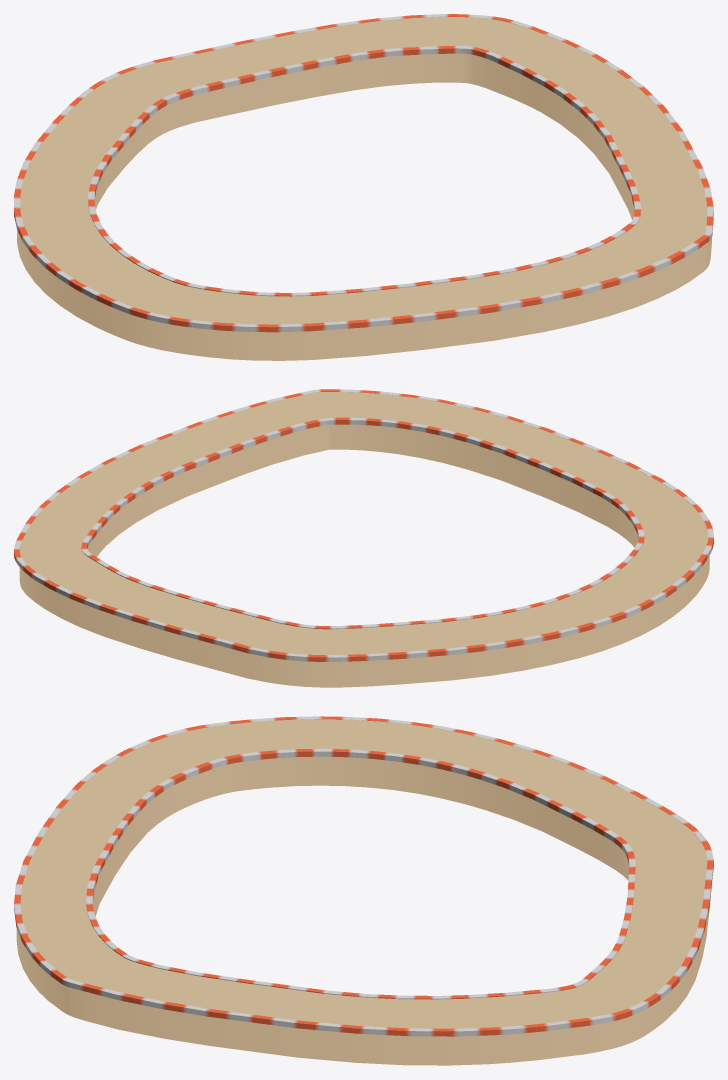
File: ROAD.fbx
The picture shows the model from 3 angles, top to bottom: view 1: azimuth 30°, elevation 25°; view 2: azimuth 150°, elevation 25°; view 3: azimuth 270°, elevation 25°; orthographic projection. The views are drawn at different scales.
Visible parts, largest first — view 1: Sweep, Sweep_6, Sweep_4; view 2: Sweep, Sweep_6, Sweep_4; view 3: Sweep, Sweep_6, Sweep_4.
Part boxes in pixels (bbox=[...]): Sweep: bbox=[17, 17, 711, 360]; Sweep_6: bbox=[14, 14, 713, 332]; Sweep_4: bbox=[88, 45, 640, 296]; Sweep: bbox=[19, 392, 709, 687]; Sweep_6: bbox=[14, 389, 713, 661]; Sweep_4: bbox=[81, 417, 644, 629]; Sweep: bbox=[16, 719, 710, 1065]; Sweep_6: bbox=[14, 716, 713, 1036]; Sweep_4: bbox=[86, 748, 635, 999].
Size of the model in its own units: 24829 by 1337 by 23317.
Materials: 2 (1 with a texture image).
